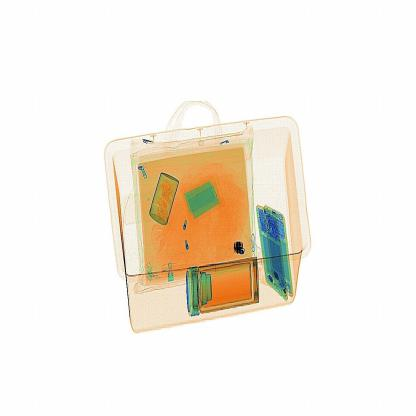scissors: (233, 238, 248, 260)
